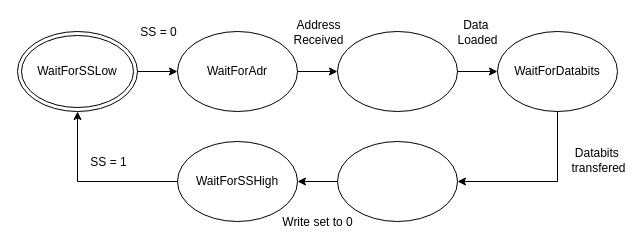
The diagram is 642 pixels wide and 246 high, and some of its shapes have lost their labels. The shapes that lost their labels are listed below. From the top down, each one's centre as x and y in pixels, then its label:
At pixel 397 71: "LoadUdbuf".
At pixel 397 181: "SetWE0".
